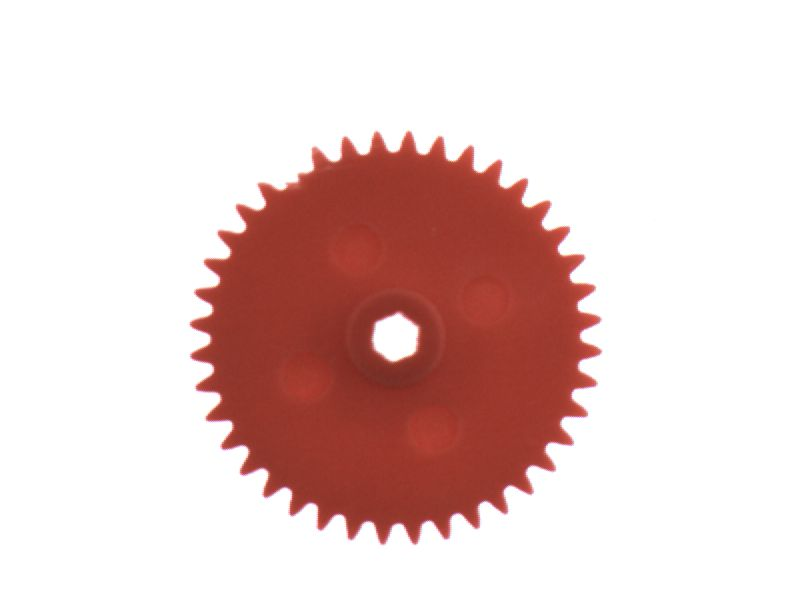defect_lack: (260, 142, 324, 206)
